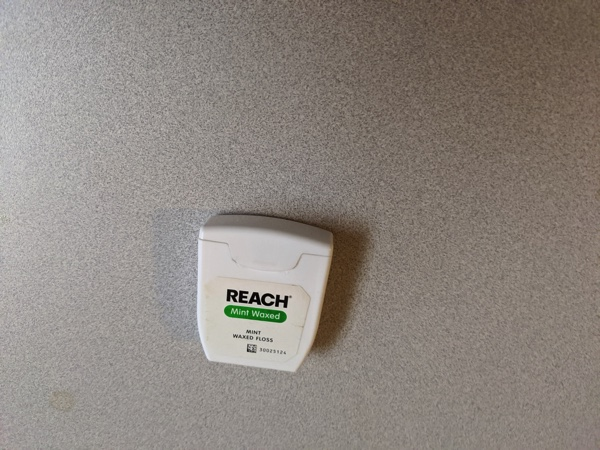plastic: (174, 186, 358, 396)
